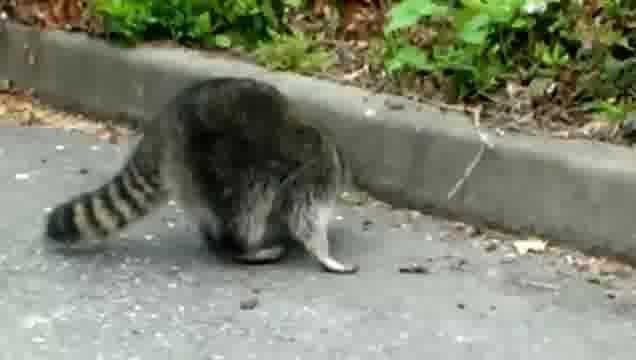raccoon: (36, 66, 366, 282)
